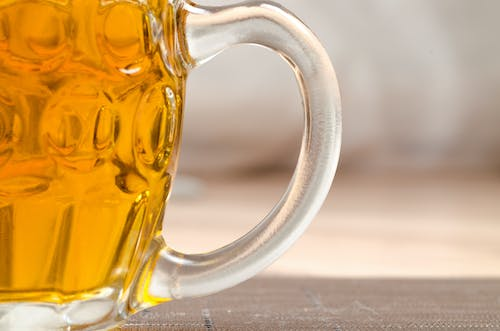alcohol: (0, 0, 344, 331)
